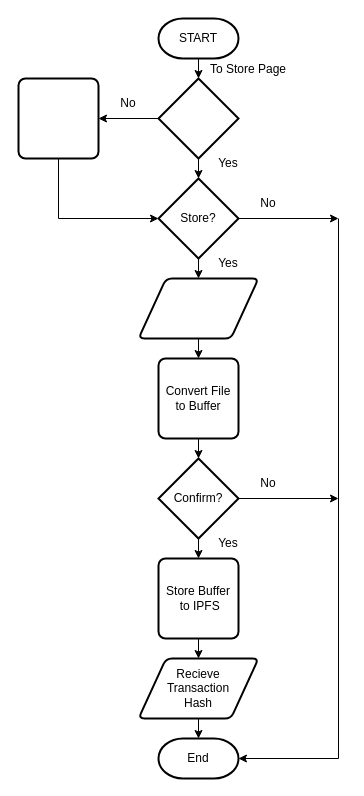
This 364x796 diagram has some shape labels left out. The box of each missing label's shape, as (x1, y1, x2, y2) in pixels:
Install Metamask: (17, 77, 99, 159)
Load File: (137, 277, 259, 339)
Metamask Installed?: (157, 77, 239, 159)
